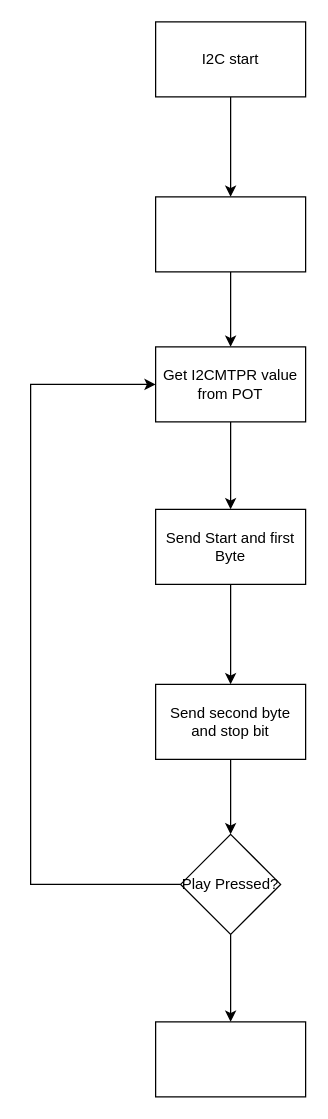
This 328x1119 diagram has some shape labels left out. Each missing label, with the box of its shape:
I2C Initialization: (154, 196, 306, 272)
Idle: (154, 1021, 306, 1097)
